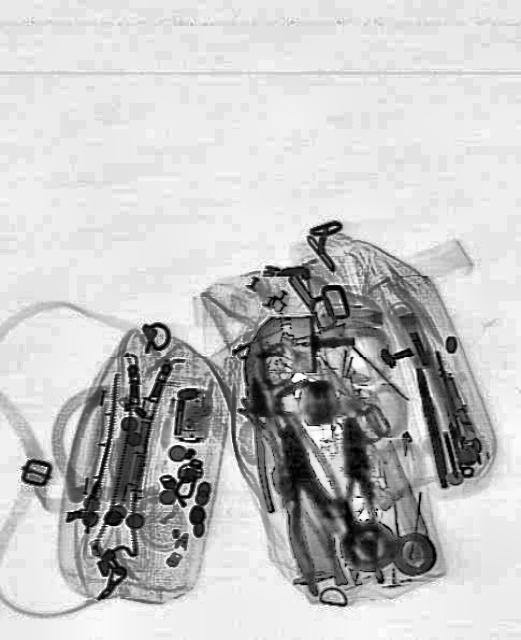Pliers: (258, 453, 352, 601), (236, 376, 300, 512), (334, 416, 385, 586)
